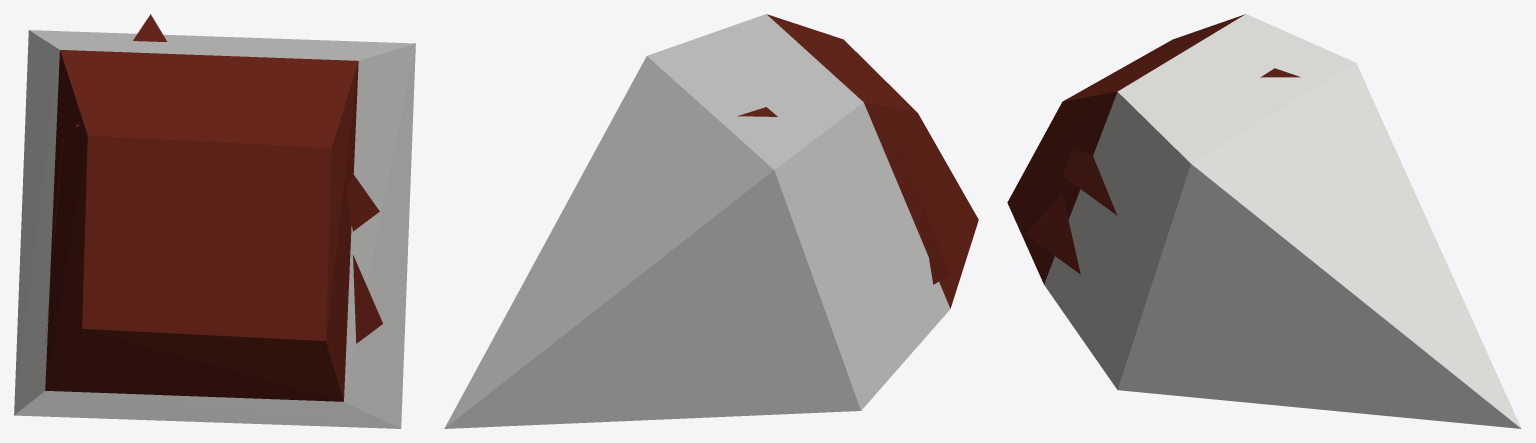
File: inv_old_tooth.obj
The picture shows the model from 3 angles, left to right: view 1: azimuth 30°, elevation 25°; view 2: azimuth 150°, elevation 25°; view 3: azimuth 270°, elevation 25°; orthographic projection. The views are drawn at different scales.
Size of the model in its own units: 0.1562 by 0.1328 by 0.2188.
